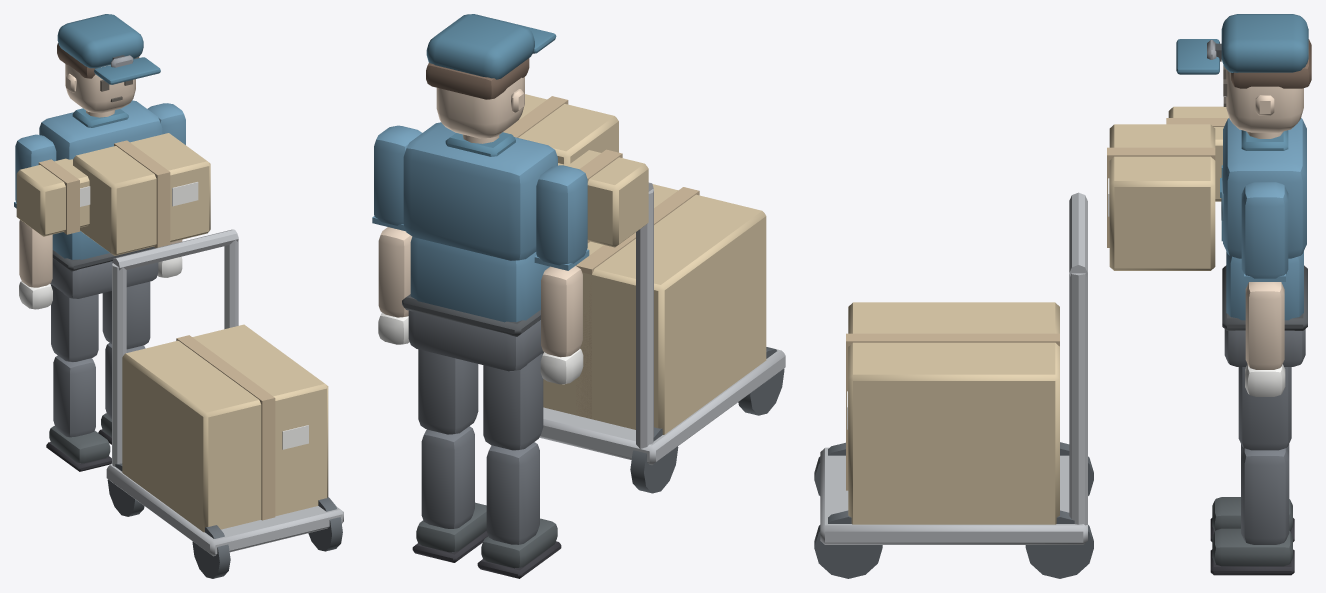
File: walker.glb
3 renders of one model, left to right at view 1: azimuth 30°, elevation 25°; view 2: azimuth 150°, elevation 25°; view 3: azimuth 270°, elevation 25°, orthographic. The views are drawn at different scales.
Parts seen in each view (by area): view 1: Cart_Box, Cart_Frame, Parcel_M, Torso, Leg_R, Head, Parcel_S, Leg_L, Forearm_R, UpperArm_R, UpperArm_L, Forearm_L; view 2: Cart_Box, Torso, Cart_Frame, Leg_R, Leg_L, Head, Parcel_S, UpperArm_R, Parcel_M, Forearm_R, Forearm_L, UpperArm_L; view 3: Cart_Box, Cart_Frame, Parcel_M, Torso, Head, Leg_L, UpperArm_L, Forearm_L, Parcel_S, Leg_R.
Boxes of the visible parts, x1=… form: Cart_Box: x1=122, y1=324, x2=328, y2=532; Cart_Frame: x1=106, y1=229, x2=343, y2=578; Parcel_M: x1=73, y1=133, x2=210, y2=255; Torso: x1=39, y1=100, x2=162, y2=298; Leg_R: x1=46, y1=285, x2=111, y2=471; Head: x1=57, y1=14, x2=160, y2=113; Parcel_S: x1=16, y1=158, x2=90, y2=236; Leg_L: x1=98, y1=281, x2=150, y2=444; Forearm_R: x1=19, y1=220, x2=52, y2=309; UpperArm_R: x1=14, y1=134, x2=56, y2=208; UpperArm_L: x1=147, y1=103, x2=185, y2=144; Forearm_L: x1=157, y1=240, x2=182, y2=277; Cart_Box: x1=543, y1=184, x2=766, y2=434; Torso: x1=402, y1=122, x2=557, y2=371; Cart_Frame: x1=491, y1=182, x2=785, y2=493; Leg_R: x1=477, y1=353, x2=561, y2=578; Leg_L: x1=412, y1=349, x2=487, y2=562; Head: x1=426, y1=14, x2=556, y2=138; Parcel_S: x1=558, y1=149, x2=648, y2=247; UpperArm_R: x1=534, y1=165, x2=589, y2=270; Parcel_M: x1=503, y1=94, x2=618, y2=164; Forearm_R: x1=540, y1=266, x2=583, y2=384; Forearm_L: x1=378, y1=227, x2=412, y2=344; UpperArm_L: x1=372, y1=125, x2=421, y2=231; Cart_Box: x1=846, y1=302, x2=1059, y2=524; Cart_Frame: x1=814, y1=192, x2=1093, y2=578; Parcel_M: x1=1107, y1=124, x2=1215, y2=270; Torso: x1=1220, y1=118, x2=1307, y2=366; Head: x1=1176, y1=14, x2=1311, y2=132; Leg_L: x1=1210, y1=367, x2=1294, y2=575; UpperArm_L: x1=1241, y1=182, x2=1288, y2=281; Forearm_L: x1=1245, y1=282, x2=1285, y2=396; Parcel_S: x1=1166, y1=106, x2=1228, y2=201; Leg_R: x1=1210, y1=444, x2=1294, y2=541.
Bounding box in the file's own units: 0.82 × 1.85 × 1.6.
